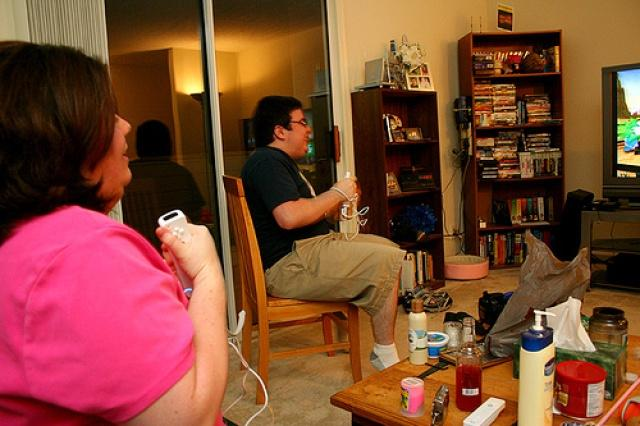Kursi: (220, 174, 364, 405)
Rak: (470, 28, 564, 269), (378, 86, 444, 303)
